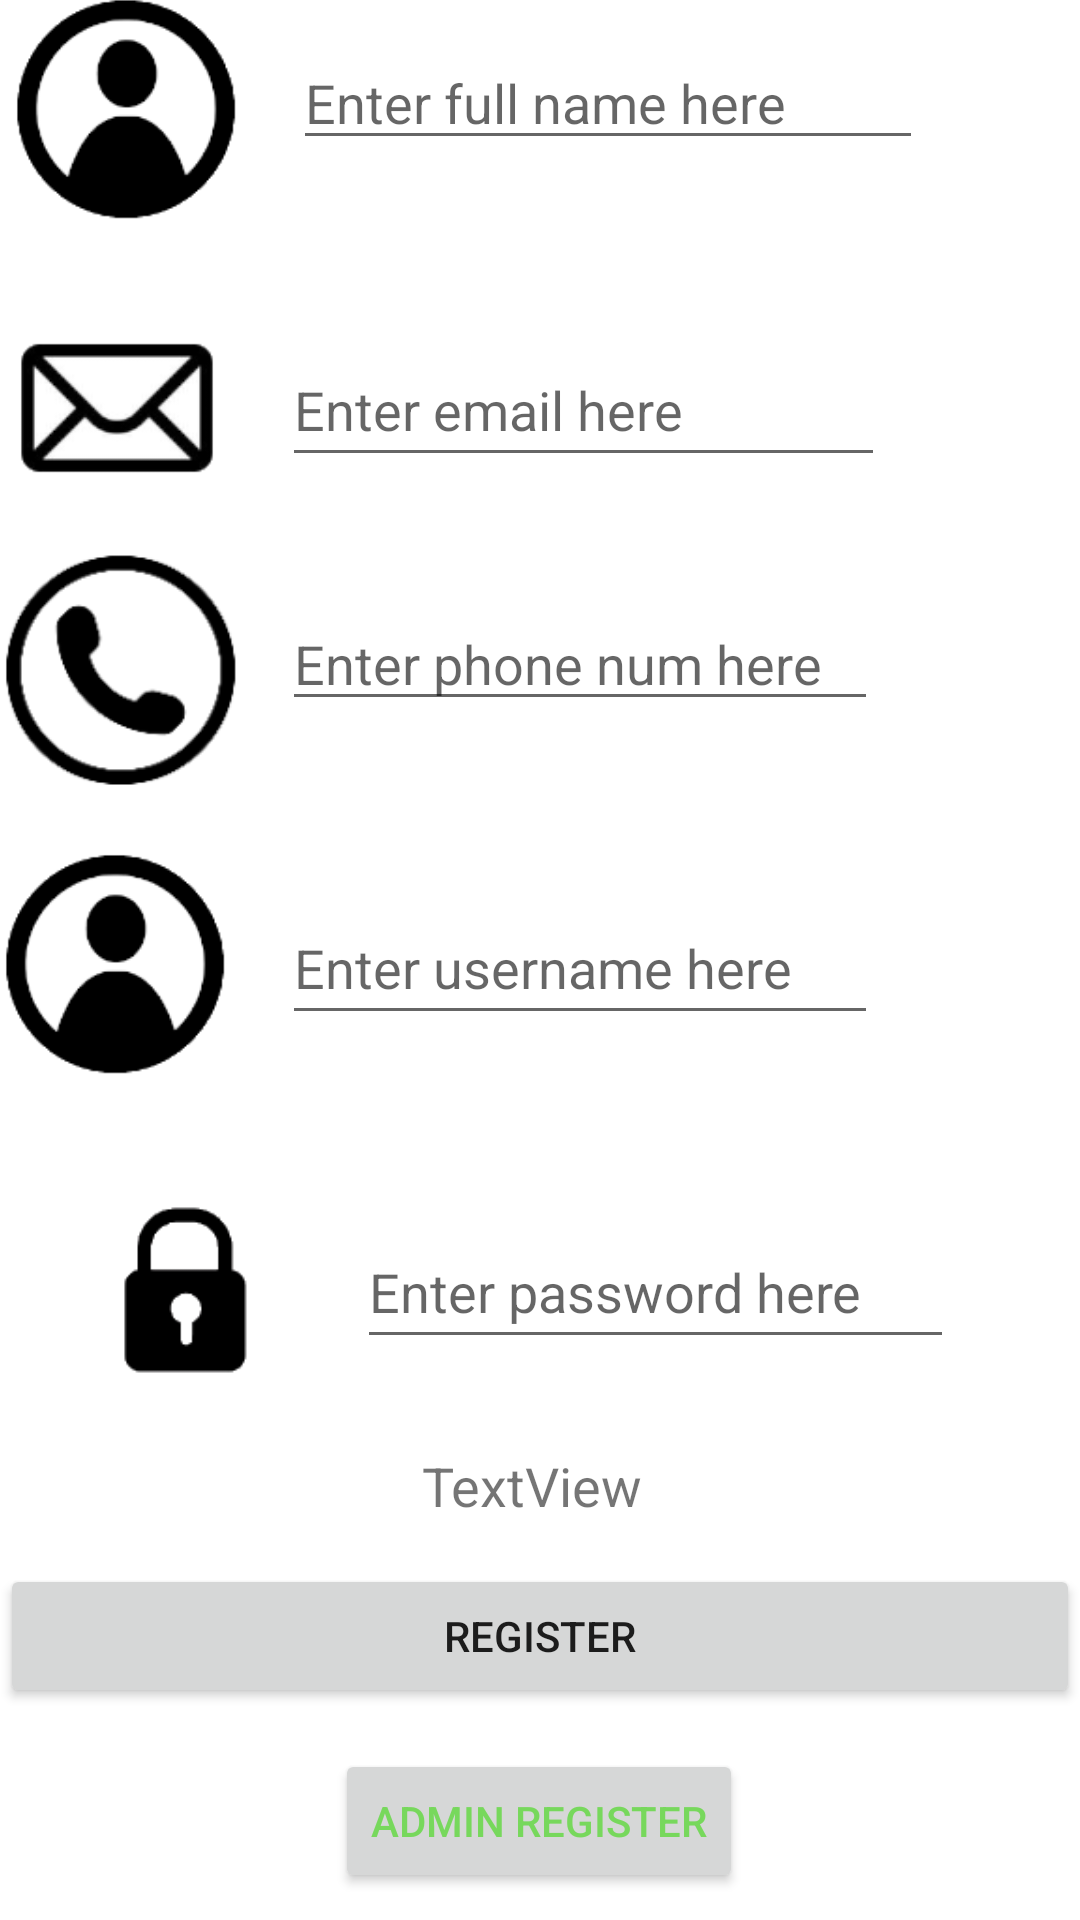

Named icons in this screenshot (1080*1920) and their centers, point (x, y):
lock: point (185, 1290)
